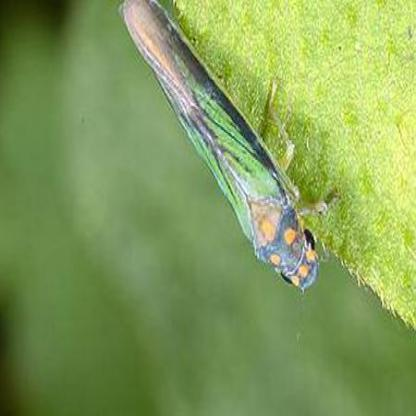green-leafhopper: (120, 1, 342, 293)
